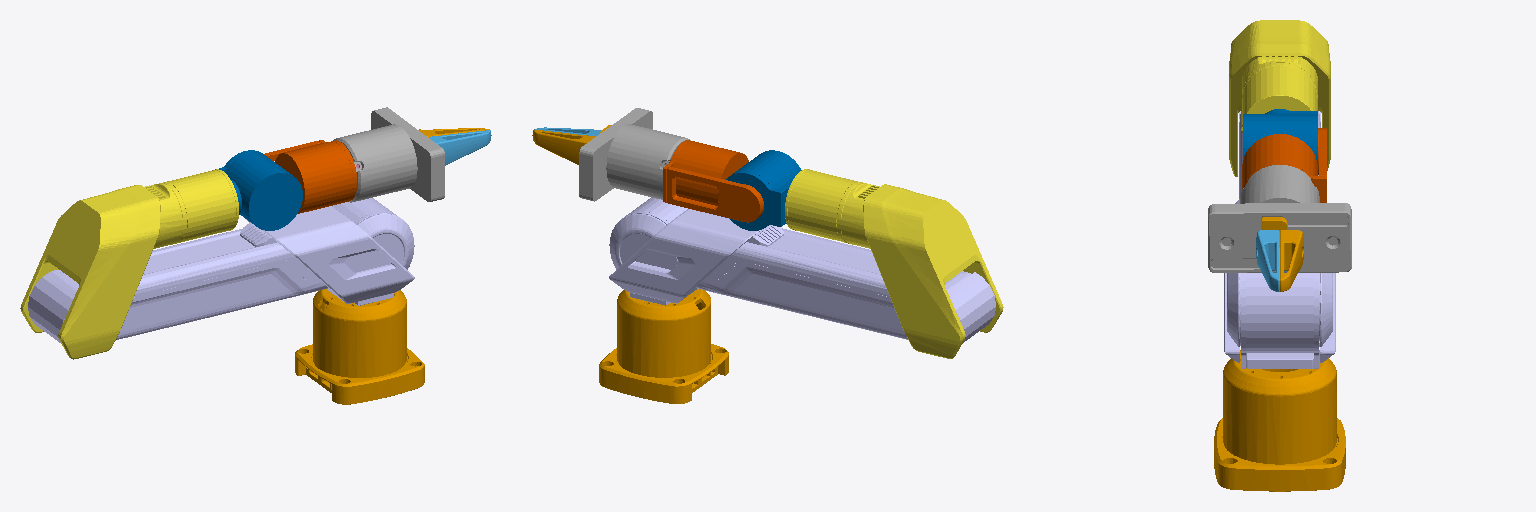
robot.urdf — A1 Single:
<?xml version="1.0" ?>
<!-- =================================================================================== -->
<!-- |    This document was autogenerated by xacro from robot.xacro                    | -->
<!-- |    EDITING THIS FILE BY HAND IS NOT RECOMMENDED                                 | -->
<!-- =================================================================================== -->
<robot name="A1 Single">
  <!-- Base Link -->
  <link name="base_link">
    <inertial>
      <origin xyz="0.00303246421307354 -0.000695340443194854 0.0297996781638517"/>
      <mass value="0.786"/>
      <inertia ixx="0.000209631286775999" ixy="1.3987766340865E-06" ixz="5.68764766805313E-06" iyy="0.000199785107628426" iyz="-3.65982104907021E-06" izz="0.000237444184695321"/>
    </inertial>
    <visual>
      <geometry>
        <mesh filename="package://galaxea_a1_description/meshes/a1_xy/base_link.obj"/>
      </geometry>
    </visual>
    <collision>
      <geometry>
        <mesh filename="package://galaxea_a1_description/meshes/a1_xy/base_link.obj"/>
      </geometry>
    </collision>
  </link>
  <!-- Link 1 -->
  <link name="link1">
    <inertial>
      <origin xyz="4.1065175135883E-07 -0.00198628171247454 0.0468863413356551"/>
      <mass value="0.839"/>
      <inertia ixx="0.000224135392915726" ixy="-1.28206810172038E-09" ixz="7.50235402650185E-09" iyy="0.00026979982869931" iyz="7.49527197322758E-09" izz="0.000218724360467532"/>
    </inertial>
    <visual>
      <origin xyz="0 0 0"/>
      <geometry>
        <mesh filename="package://galaxea_a1_description/meshes/a1_xy/link1.obj"/>
      </geometry>
      <material name="">
        <color rgba="0.823529411764706 0.823529411764706 1 1"/>
      </material>
    </visual>
    <collision>
      <origin xyz="0 0 0"/>
      <geometry>
        <mesh filename="package://galaxea_a1_description/meshes/a1_xy/link1.obj"/>
      </geometry>
    </collision>
  </link>
  <!-- Joint 1: Base to Link1 -->
  <joint name="joint1" type="revolute">
    <origin xyz="0 0 0.08605"/>
    <parent link="base_link"/>
    <child link="link1"/>
    <axis xyz="0 0 1"/>
    <limit effort="27" lower="-2.879795" upper="2.879795" velocity="10.4720"/>
  </joint>
  <!-- Link 2 -->
  <link name="link2">
    <inertial>
      <origin xyz="-0.122673818397923 -0.0295401461831619 0.00364838977156251"/>
      <mass value="1.09"/>
      <inertia ixx="0.000388311522528777" ixy="-2.18086613093501E-05" ixz="8.77434895649448E-06" iyy="0.00274683151904258" iyz="1.19756607314247E-06" izz="0.00278055331308976"/>
    </inertial>
    <visual>
      <origin xyz="0 0 0"/>
      <geometry>
        <mesh filename="package://galaxea_a1_description/meshes/a1_xy/link2.obj"/>
      </geometry>
      <material name="">
        <color rgba="0.823529411764706 0.823529411764706 1 1"/>
      </material>
    </visual>
    <collision>
      <origin xyz="0 0 0"/>
      <geometry>
        <mesh filename="package://galaxea_a1_description/meshes/a1_xy/link2.obj"/>
      </geometry>
    </collision>
  </link>
  <!-- Joint 2: Link1 to Link2 -->
  <joint name="joint2" type="revolute">
    <origin xyz="0 0.03075 0.04925"/>
    <parent link="link1"/>
    <child link="link2"/>
    <axis xyz="0 1 0"/>
    <limit effort="50" lower="0" upper="3.1416" velocity="12.5664"/>
  </joint>
  <link name="link3">
    <inertial>
      <origin xyz="0.0795681449160072 -0.0327357454565678 0.065177920553168"/>
      <mass value="0.762"/>
      <inertia ixx="0.000282703505875711" ixy="-4.06256349285171E-06" ixz="-7.63228373259732E-05" iyy="0.000329835410245831" iyz="-1.03493005263955E-05" izz="0.000237652038430906"/>
    </inertial>
    <visual>
      <geometry>
        <mesh filename="package://galaxea_a1_description/meshes/a1_xy/a1_y/link3.obj"/>
      </geometry>
    </visual>
    <collision>
      <geometry>
        <mesh filename="package://galaxea_a1_description/meshes/a1_xy/a1_y/link3.obj"/>
      </geometry>
    </collision>
  </link>
  <joint name="joint3" type="revolute">
    <origin rpy="0 0 0" xyz="-0.3 0.00024449 0"/>
    <parent link="link2"/>
    <child link="link3"/>
    <axis xyz="0 1 0"/>
    <limit effort="27" lower="-3.316127" upper="0" velocity="10.4720"/>
  </joint>
  <link name="link4">
    <inertial>
      <origin rpy="0 0 0" xyz="0.0388578803222686 0.000937806543809841 -1.15721572034322E-05"/>
      <mass value="0.353"/>
      <inertia ixx="5.97701758868814E-05" ixy="-6.87774799668449E-10" ixz="-2.14372946639157E-10" iyy="6.0587917049985E-05" iyz="-5.98401601618766E-11" izz="5.98342278178533E-05"/>
    </inertial>
    <visual>
      <geometry>
        <mesh filename="package://galaxea_a1_description/meshes/a1_xy/a1_y/link4.obj"/>
      </geometry>
    </visual>
    <collision>
      <geometry>
        <mesh filename="package://galaxea_a1_description/meshes/a1_xy/a1_y/link4.obj"/>
      </geometry>
    </collision>
  </link>
  <joint name="joint4" type="revolute">
    <origin rpy="0 0 0" xyz="0.1544 -0.030998 0.075485"/>
    <parent link="link3"/>
    <child link="link4"/>
    <axis xyz="1 0 0"/>
    <limit effort="14" lower="-2.879795" upper="2.879795" velocity="32.9867"/>
  </joint>
  <link name="link5">
    <inertial>
      <origin rpy="0 0 0" xyz="0.0526293728146609 -0.0197387756630963 7.38547745043894E-06"/>
      <mass value="0.366"/>
      <inertia ixx="5.87226827172217E-05" ixy="3.94835644387525E-09" ixz="-1.57113932950695E-12" iyy="6.96559934519655E-05" iyz="7.55674102061766E-09" izz="6.85055623583414E-05"/>
    </inertial>
    <visual>
      <geometry>
        <mesh filename="package://galaxea_a1_description/meshes/a1_xy/a1_y/link5.obj"/>
      </geometry>
    </visual>
    <collision>
      <geometry>
        <mesh filename="package://galaxea_a1_description/meshes/a1_xy/a1_y/link5.obj"/>
      </geometry>
    </collision>
  </link>
  <joint name="joint5" type="revolute">
    <origin rpy="0 0 0" xyz="0.0418 0.023501 0"/>
    <parent link="link4"/>
    <child link="link5"/>
    <axis xyz="0 1 0"/>
    <limit effort="14" lower="-1.832597" upper="1.832597" velocity="32.9867"/>
  </joint>
  <link name="link6">
    <inertial>
      <origin rpy="0 0 0" xyz="0.00709944781467154 1.26586535489642E-07 -3.8262881471296E-05"/>
      <mass value="0.031"/>
      <inertia ixx="3.44528457425794E-06" ixy="2.98138934982256E-11" ixz="-1.26128084918303E-09" iyy="1.82573408455416E-06" iyz="1.17092872453752E-14" izz="1.8173151968758E-06"/>
    </inertial>
    <visual>
      <geometry>
        <mesh filename="package://galaxea_a1_description/meshes/a1_xy/link6.obj"/>
      </geometry>
    </visual>
    <collision>
      <geometry>
        <mesh filename="package://galaxea_a1_description/meshes/a1_xy/link6.obj"/>
      </geometry>
    </collision>
  </link>
  <joint name="joint6" type="revolute">
    <origin rpy="0 0 0" xyz="0.081 -0.023499 0"/>
    <parent link="link5"/>
    <child link="link6"/>
    <axis xyz="1 0 0"/>
    <limit effort="14" lower="-2.879795" upper="2.879795" velocity="32.9867"/>
  </joint>
  <link name="gripper_base">
    <inertial>
      <origin xyz="-0.0311072323899603 1.17979991887118E-08 7.93394685505433E-08"/>
      <mass value="0.604"/>
      <inertia ixx="0.000175881544189539" ixy="-6.06026450851008E-11" ixz="5.30643405624365E-10" iyy="9.86379407701341E-05" iyz="-8.18686692495892E-08" izz="0.000165121280580029"/>
    </inertial>
    <visual>
      <geometry>
        <mesh filename="package://galaxea_a1_description/meshes/gripper/gripper_link.obj"/>
      </geometry>
    </visual>
    <collision>
      <geometry>
        <mesh filename="package://galaxea_a1_description/meshes/gripper/gripper_link.obj"/>
      </geometry>
    </collision>
  </link>
  <link name="finger1">
    <inertial>
      <origin xyz="-0.0195895895552112 -0.0151136845490034 0.00542254359093075"/>
      <mass value="0.027"/>
      <inertia ixx="2.40569358477209E-06" ixy="3.9898459609048E-07" ixz="5.12152762183641E-08" iyy="5.71079298307516E-06" iyz="6.19467902008363E-08" izz="6.48482183930358E-06"/>
    </inertial>
    <visual>
      <geometry>
        <mesh filename="package://galaxea_a1_description/meshes/gripper/finger.obj"/>
      </geometry>
    </visual>
    <collision>
      <geometry>
        <mesh filename="package://galaxea_a1_description/meshes/gripper/finger.obj"/>
      </geometry>
    </collision>
  </link>
  <joint name="gripper_joint" type="prismatic">
    <origin xyz="0.03689 0.013453 0.00012059"/>
    <parent link="gripper_base"/>
    <child link="finger1"/>
    <axis xyz="0 1 0"/>
    <limit effort="100" lower="0" upper="0.05" velocity="0.25"/>
  </joint>
  <link name="finger2">
    <inertial>
      <origin xyz="-0.0195895857999098 0.0151136893508115 -0.00542254357246619"/>
      <mass value="0.027"/>
      <inertia ixx="2.40569340151687E-06" ixy="-3.98983784827124E-07" ixz="-5.12152683073981E-08" iyy="5.71079321589929E-06" iyz="6.19467953006536E-08" izz="6.48482187274222E-06"/>
    </inertial>
    <visual>
      <geometry>
        <mesh filename="package://galaxea_a1_description/meshes/gripper/finger.obj" scale="1 -1 -1"/>
      </geometry>
    </visual>
    <collision>
      <geometry>
        <mesh filename="package://galaxea_a1_description/meshes/gripper/finger.obj" scale="1 -1 -1"/>
      </geometry>
    </collision>
  </link>
  <joint name="gripper_joint2" type="prismatic">
    <origin xyz="0.03689 -0.013453 -0.00012059"/>
    <parent link="gripper_base"/>
    <child link="finger2"/>
    <axis xyz="0 -1 0"/>
    <limit effort="100" lower="0" upper="0.05" velocity="0.25"/>
    <mimic joint="gripper_joint" multiplier="1" offset="0"/>
  </joint>
  <link name="gripper_center"/>
  <joint name="gripper_center_joint" type="fixed">
    <origin xyz="0.03689 0 -0.00012059"/>
    <parent link="gripper_base"/>
    <child link="gripper_center"/>
  </joint>
  <joint name="gripper_base_joint" type="fixed">
    <origin xyz="0.08165 0 0"/>
    <parent link="link6"/>
    <child link="gripper_base"/>
  </joint>
</robot>

--- Render facts (derived) ---
The picture shows the robot from 3 angles, left to right: view 1: azimuth 30°, elevation 25°; view 2: azimuth 150°, elevation 25°; view 3: azimuth 270°, elevation 25°; orthographic projection.
Model A1 Single with 11 links and 10 joints (6 revolute, 2 prismatic, 2 fixed), rooted at base_link, posed every joint at zero.
Visible links, largest first — view 1: link2, link3, base_link, gripper_base, link4, link5, link1, finger2; view 2: link2, link3, base_link, gripper_base, link5, link4, link1, finger1; view 3: base_link, gripper_base, link3, link1, link2, link5, link4, finger1, finger2.
Boxes of the visible links, left/top/right/bottom form: link2: left=28, top=206, right=414, bottom=342; link3: left=20, top=169, right=238, bottom=359; base_link: left=295, top=289, right=424, bottom=404; gripper_base: left=333, top=107, right=444, bottom=202; link4: left=215, top=150, right=302, bottom=230; link5: left=264, top=140, right=356, bottom=213; link1: left=332, top=198, right=399, bottom=305; finger2: left=430, top=130, right=491, bottom=165; link2: left=609, top=209, right=995, bottom=342; link3: left=785, top=169, right=1003, bottom=358; base_link: left=599, top=289, right=728, bottom=403; gripper_base: left=579, top=108, right=690, bottom=201; link5: left=663, top=140, right=763, bottom=222; link4: left=726, top=150, right=801, bottom=230; link1: left=622, top=197, right=687, bottom=305; finger1: left=532, top=125, right=611, bottom=164; base_link: left=1214, top=350, right=1345, bottom=491; gripper_base: left=1208, top=165, right=1351, bottom=272; link3: left=1229, top=20, right=1330, bottom=176; link1: left=1240, top=273, right=1319, bottom=368; link2: left=1224, top=111, right=1335, bottom=362; link5: left=1242, top=128, right=1326, bottom=202; link4: left=1243, top=109, right=1317, bottom=163; finger1: left=1261, top=217, right=1303, bottom=291; finger2: left=1256, top=230, right=1287, bottom=291.
Bounding box of the posed robot: 0.4714 × 0.1083 × 0.241 m (x, y, z).
Meshes: 9 distinct files referenced, 10 mesh visuals loaded (9 OBJ).